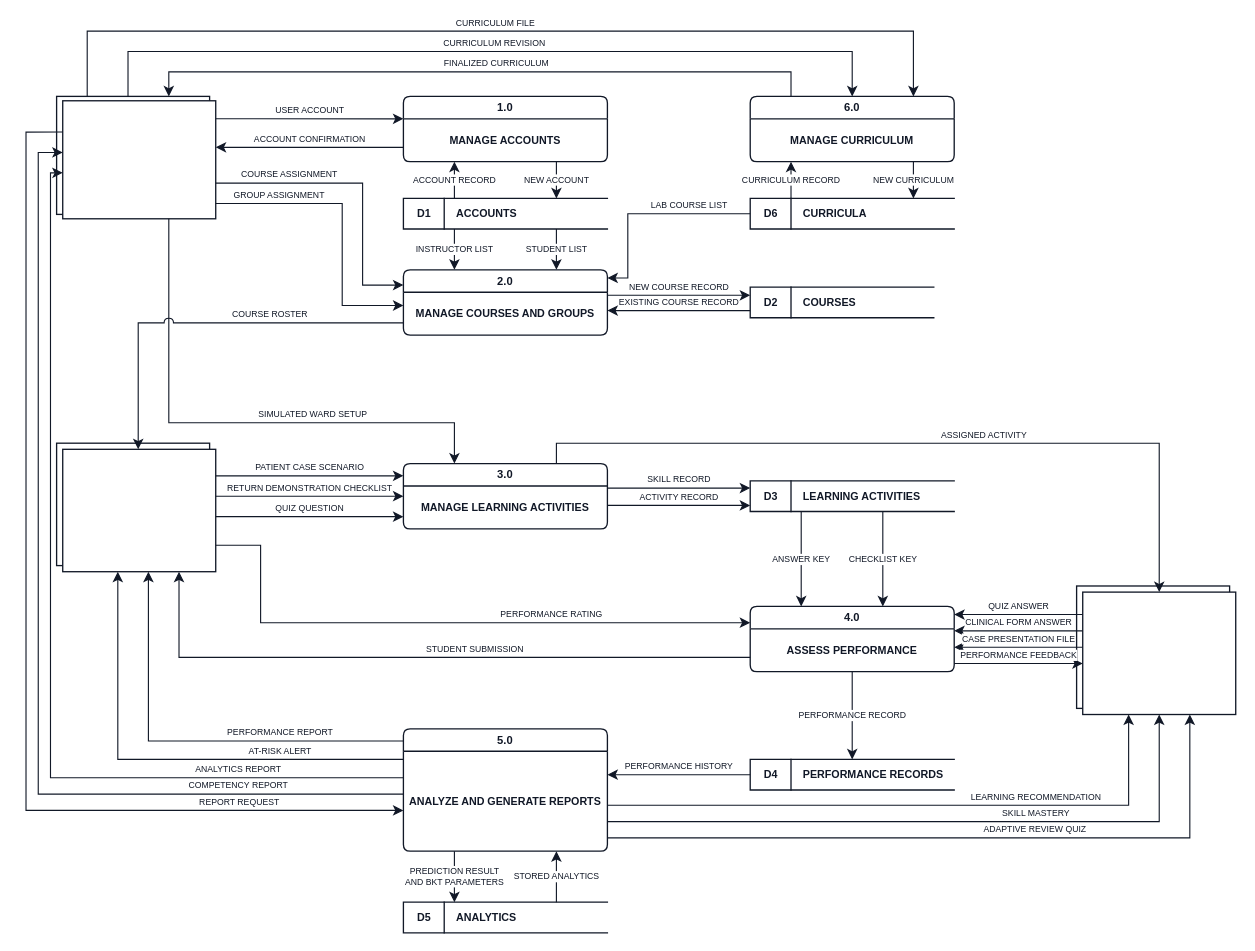
Image size: 1255x951. Some labels were removed from this diagram. Here are the shapes that lost their labels. From the top down, the box of each, then its label:
(62, 100, 216, 219): DEAN / PROGRAM CHAIR
(62, 448, 216, 572): INSTRUCTOR
(1082, 591, 1236, 715): STUDENT
